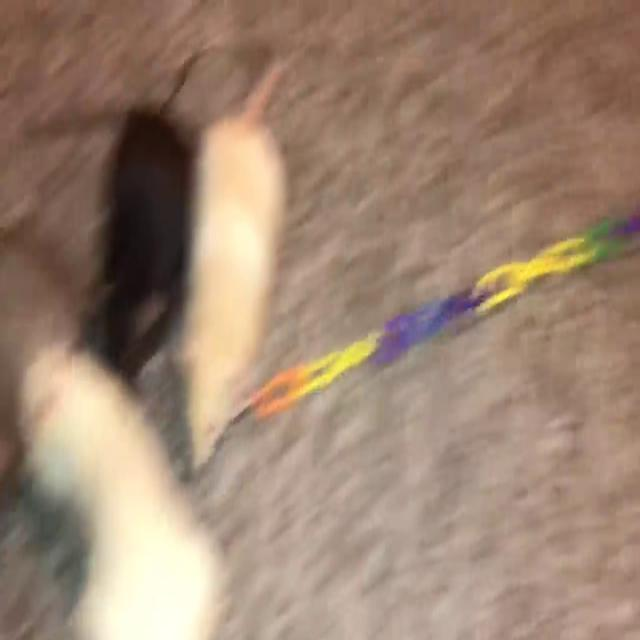rat: (174, 62, 290, 470), (94, 37, 192, 376)
